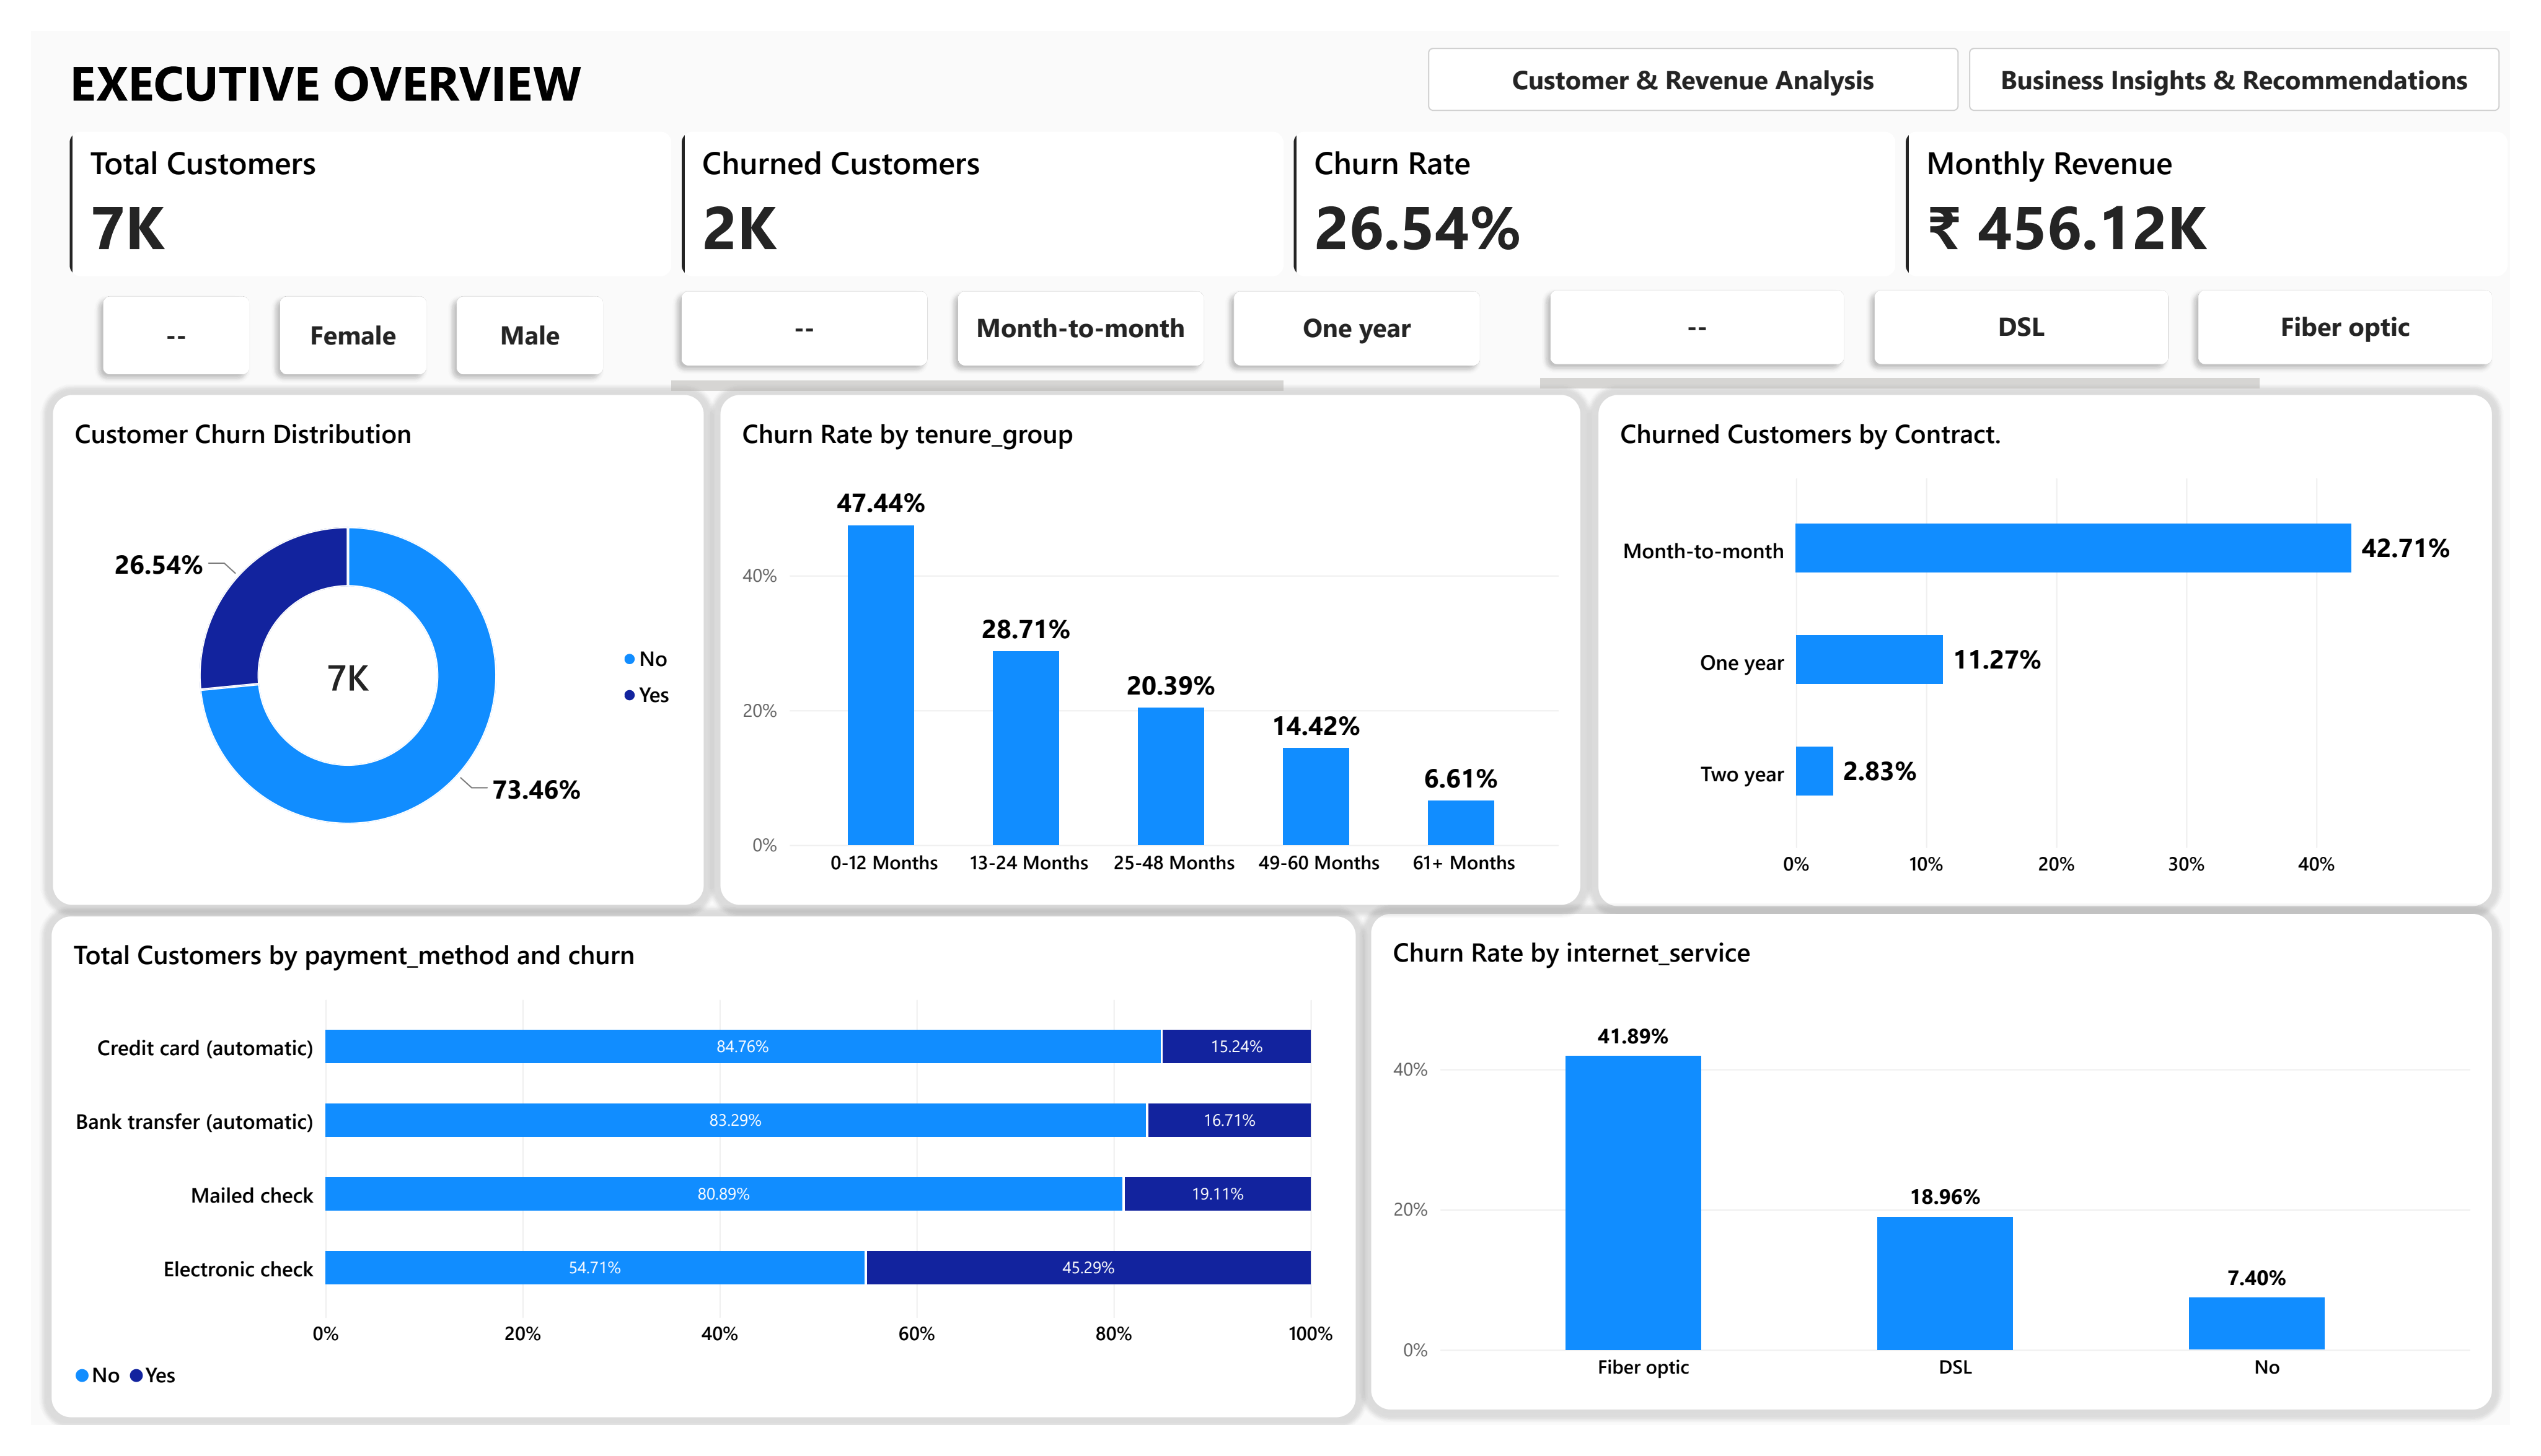

The dashboard page shown, as its layout file describes it:
{"tool":"powerbi","page":{"name":"Executive Overview","canvas":[1920,1080],"ordinal":0},"visuals":[{"type":"cardVisual","fields":{"Data":["All_Measures.Total Customers","All_Measures.Churned Customers","All_Measures.Churn Rate","All_Measures.Monthly Revenue"]},"box":[30,78,1890,112],"z":0},{"type":"donutChart","title":"Customer Churn Distribution","fields":{"Category":["public fact_customer_churn.churn"],"Y":["All_Measures.Total Customers"]},"box":[16.6,281.6,504.3,395.7],"z":1000},{"type":"clusteredBarChart","title":"Churned Customers by Contract.","fields":{"Category":["public dim_contract.contract"],"Y":["All_Measures.Churn Rate"]},"box":[1214,282,692,396],"z":2000},{"type":"clusteredColumnChart","fields":{"Category":["public dim_service.internet_service"],"Y":["All_Measures.Churn Rate"]},"box":[1038,684,868,384],"z":3000},{"type":"columnChart","fields":{"Category":["public fact_customer_churn.tenure_group"],"Y":["All_Measures.Churn Rate"]},"box":[533.7,281.6,666.3,395.7],"z":4000},{"type":"hundredPercentStackedBarChart","fields":{"Category":["public dim_contract.payment_method"],"Series":["public fact_customer_churn.churn"],"Y":["All_Measures.Total Customers"]},"box":[16,686,1010,388],"z":5000},{"type":"advancedSlicerVisual","fields":{"Values":["public dim_customer.gender"]},"box":[48,198,404,76],"z":6000},{"type":"advancedSlicerVisual","fields":{"Values":["public dim_contract.contract"]},"box":[495.7,194.4,635,86.5],"z":7000},{"type":"advancedSlicerVisual","fields":{"Values":["public dim_service.internet_service"]},"box":[1169.4,192.5,745.4,86.5],"z":8000},{"type":"textbox","box":[30,14,570,64],"z":9000},{"type":"pageNavigator","box":[1082.2,12.9,830.1,49.7],"z":10000}]}

Visuals, with their boxes on the page's 1920x1080 design canvas (x1, y1, x2, y2). These are canvas units, not pixel positions in the 2541x1456 screenshot, which may show the page scaled, cropped or inside an application window:
cardVisual - All_Measures.Total Customers x All_Measures.Churned Customers: locate(30, 78, 1920, 190)
"Customer Churn Distribution" donutChart: locate(17, 282, 521, 677)
"Churned Customers by Contract." clusteredBarChart: locate(1214, 282, 1906, 678)
clusteredColumnChart - public dim_service.internet_service x All_Measures.Churn Rate: locate(1038, 684, 1906, 1068)
columnChart - public fact_customer_churn.tenure_group x All_Measures.Churn Rate: locate(534, 282, 1200, 677)
hundredPercentStackedBarChart - public dim_contract.payment_method x public fact_customer_churn.churn: locate(16, 686, 1026, 1074)
advancedSlicerVisual - public dim_customer.gender: locate(48, 198, 452, 274)
advancedSlicerVisual - public dim_contract.contract: locate(496, 194, 1131, 281)
advancedSlicerVisual - public dim_service.internet_service: locate(1169, 192, 1915, 279)
textbox: locate(30, 14, 600, 78)
pageNavigator: locate(1082, 13, 1912, 63)
